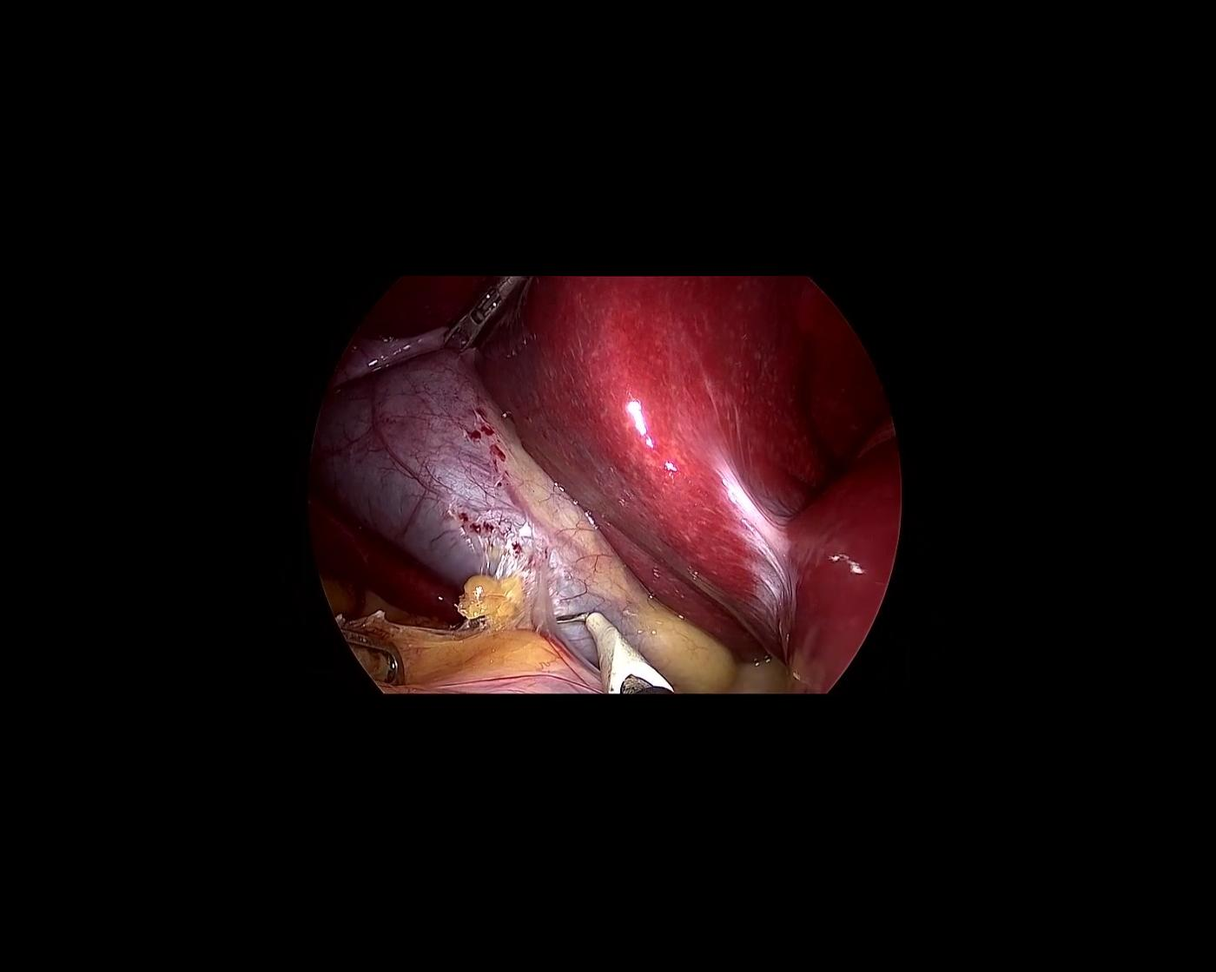Cautery: (538, 590, 678, 729)
Forceps: (441, 261, 533, 355)
Gallbladder: (268, 290, 795, 750)
Liver: (446, 144, 1018, 729), (280, 487, 476, 655)
